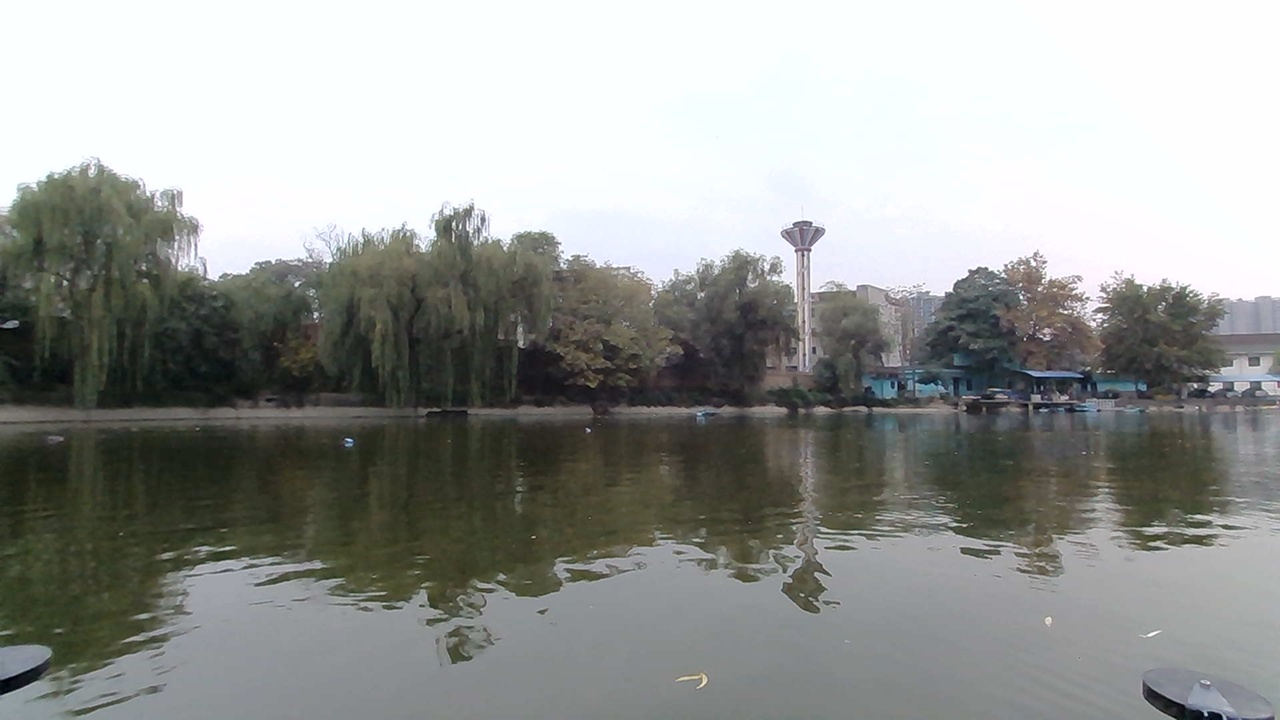bottle: (337, 435, 368, 453)
